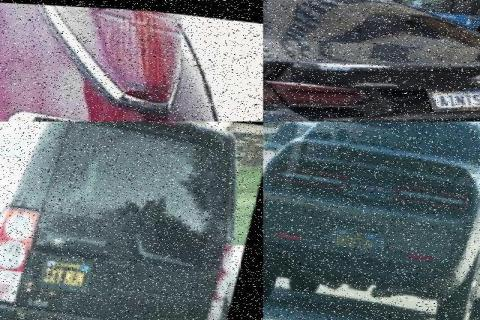LicensePlate: (42, 252, 98, 292), (337, 221, 381, 252), (427, 85, 478, 109)
